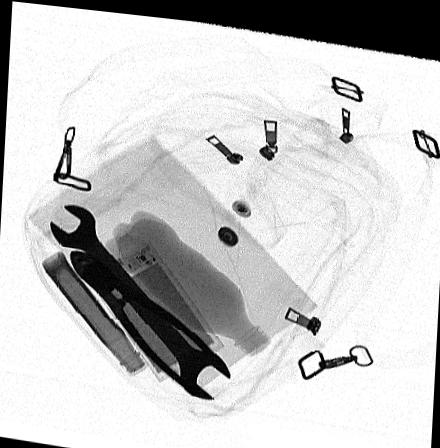Pliers: (67, 249, 221, 386)
Powerbank: (88, 235, 224, 379)
Wrench: (50, 201, 231, 396)
